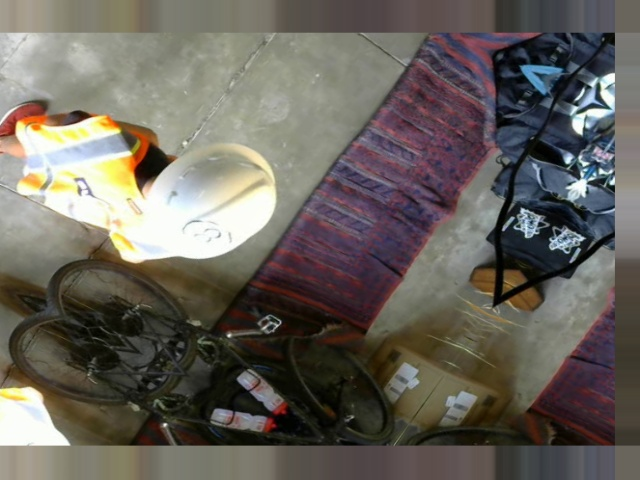eight: (174, 211, 242, 263)
